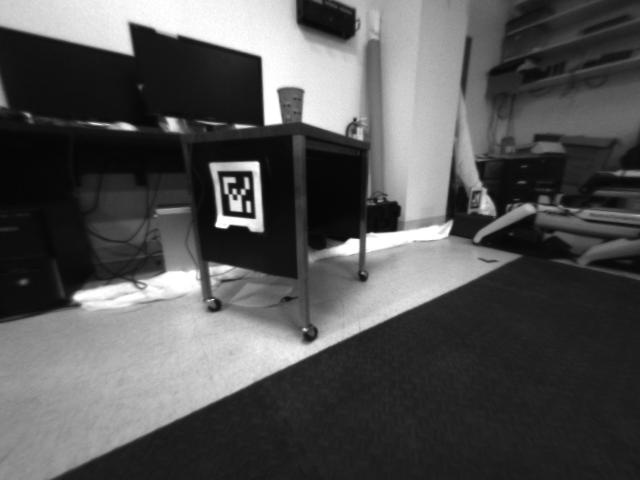coffee_cup: (275, 86, 309, 123)
